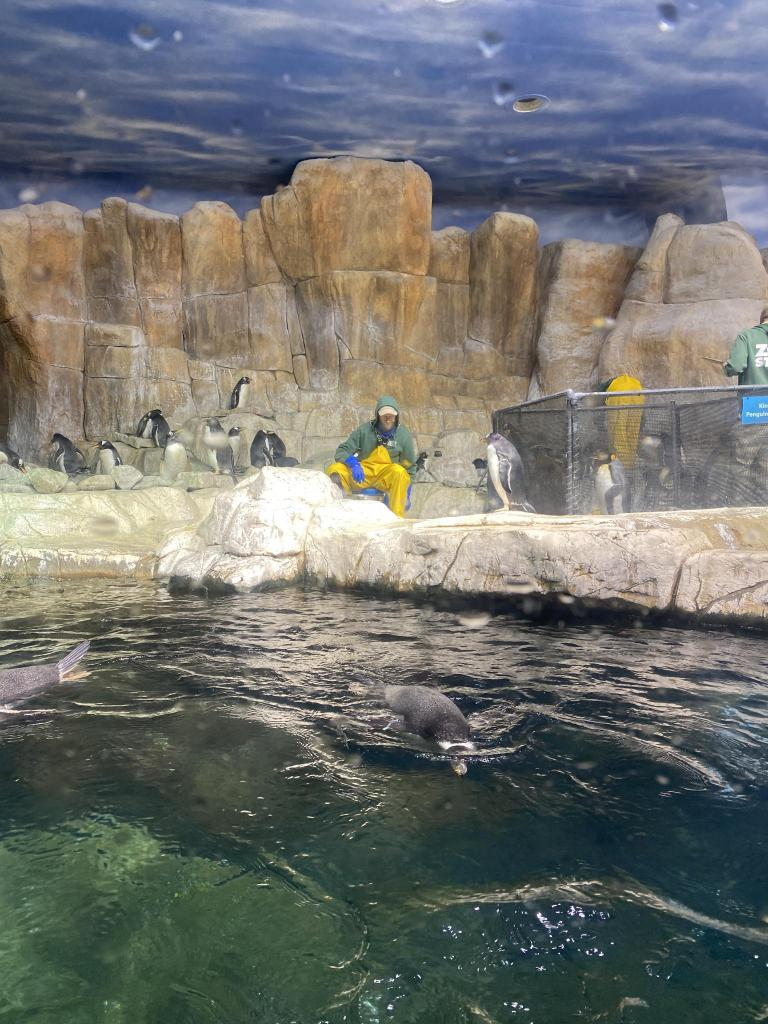penguin: (354, 672, 474, 774), (0, 630, 95, 720), (473, 429, 529, 521), (585, 444, 631, 518), (192, 408, 236, 484), (47, 432, 89, 482), (92, 435, 126, 481), (246, 424, 276, 474), (125, 400, 160, 440), (222, 417, 246, 475), (0, 439, 31, 479), (226, 372, 254, 416), (150, 410, 176, 454)
